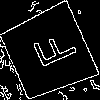F: (24, 27, 79, 74)
